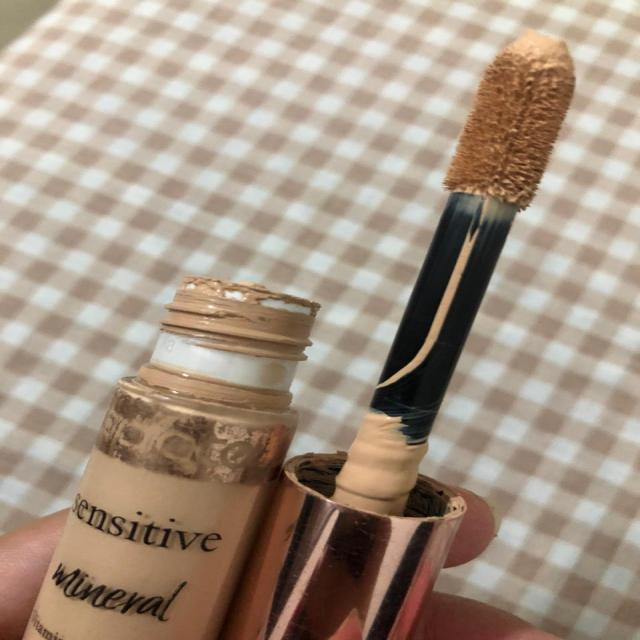concealer: (281, 21, 596, 640), (11, 269, 356, 640), (391, 22, 601, 340)
